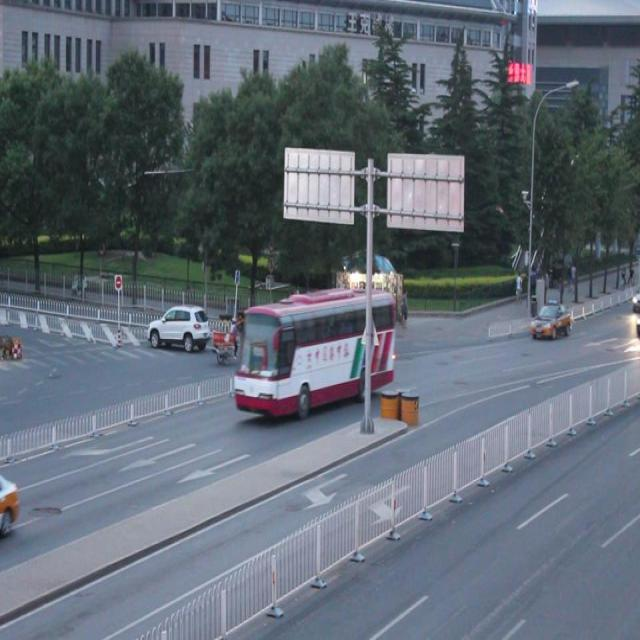car: (149, 307, 214, 358), (528, 297, 569, 339)
van: (238, 290, 396, 421)
